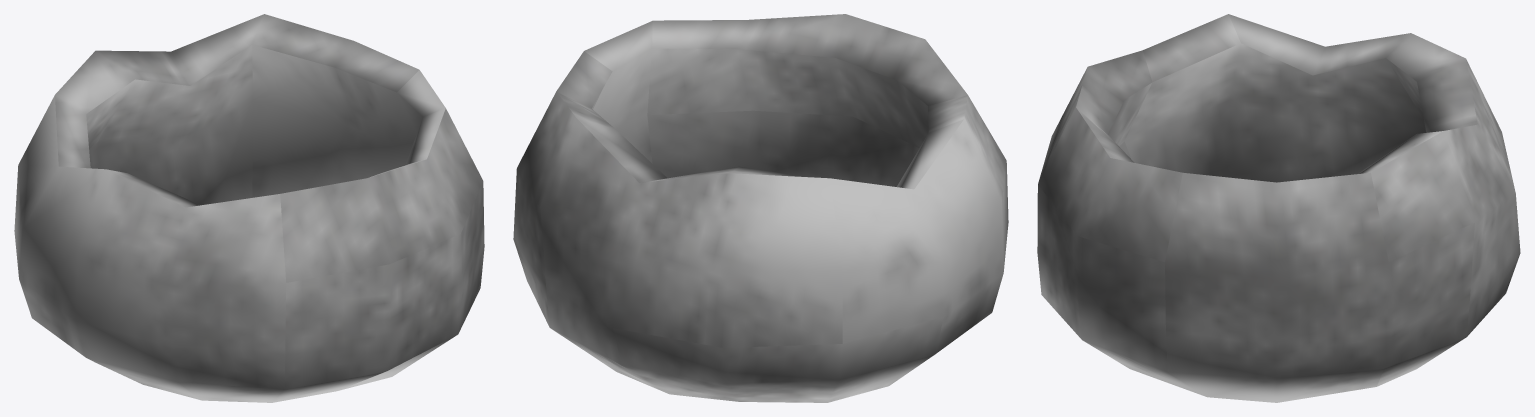
The model's file is HabGladiador.obj.
3 views of the same model, side by side, from view 1: azimuth 30°, elevation 25°; view 2: azimuth 150°, elevation 25°; view 3: azimuth 270°, elevation 25° (orthographic). The views are drawn at different scales.
Parts seen in each view (by area): view 1: habGladi_habGladiH; view 2: habGladi_habGladiH; view 3: habGladi_habGladiH.
Boxes of the visible parts, box(x1,y1,x2,y2) form: habGladi_habGladiH: box(14, 14, 484, 402); habGladi_habGladiH: box(513, 14, 1008, 402); habGladi_habGladiH: box(1037, 14, 1520, 402).
Size of the model in its own units: 2.55 by 1.49 by 2.57.
Materials: 1 (1 with a texture image).
